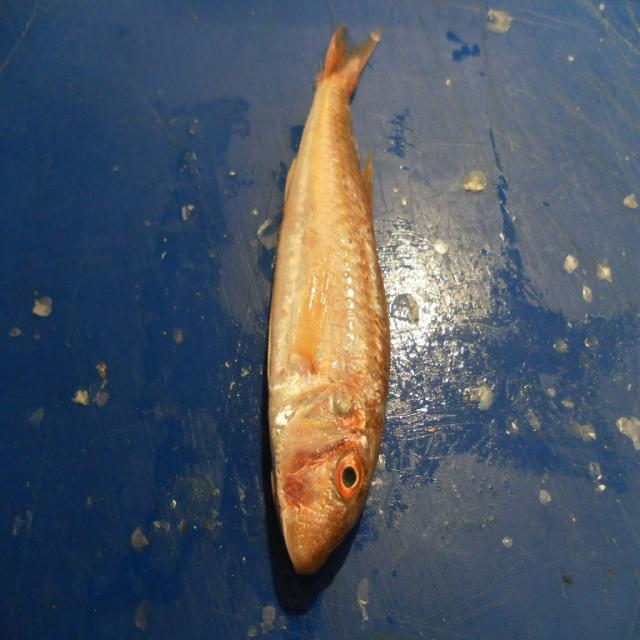Striped-Red-Mullet-tekir-: (264, 27, 391, 583)
